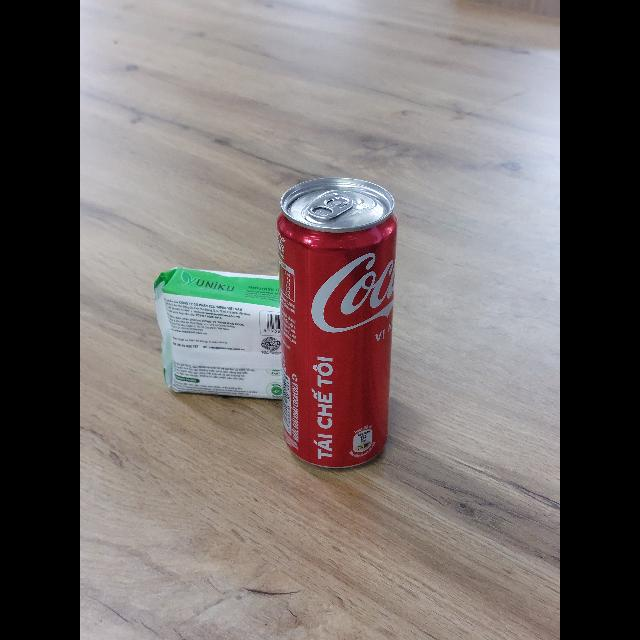coca_cola: (276, 177, 397, 472)
khan_giay: (152, 268, 285, 401)
